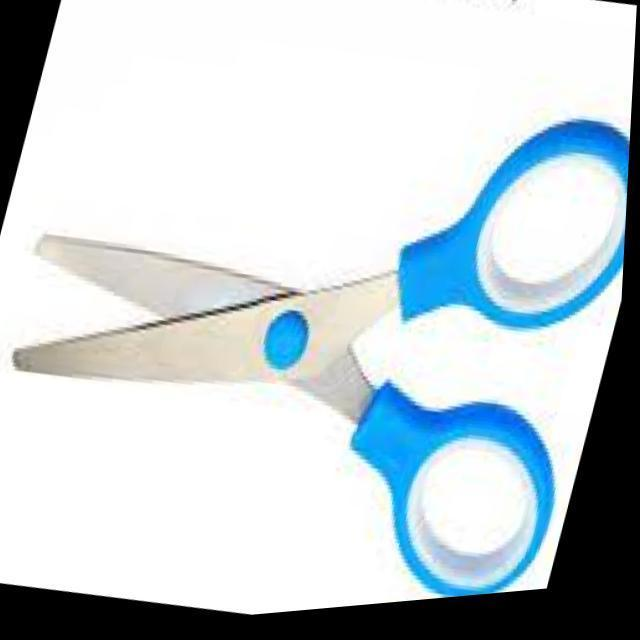tesoura: (16, 73, 610, 591)
